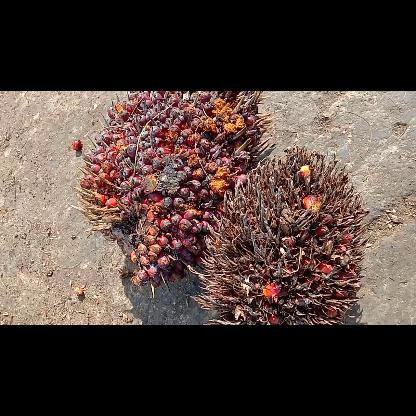TBS masak: (70, 91, 272, 297)
Terlalu masak: (194, 146, 368, 324)
